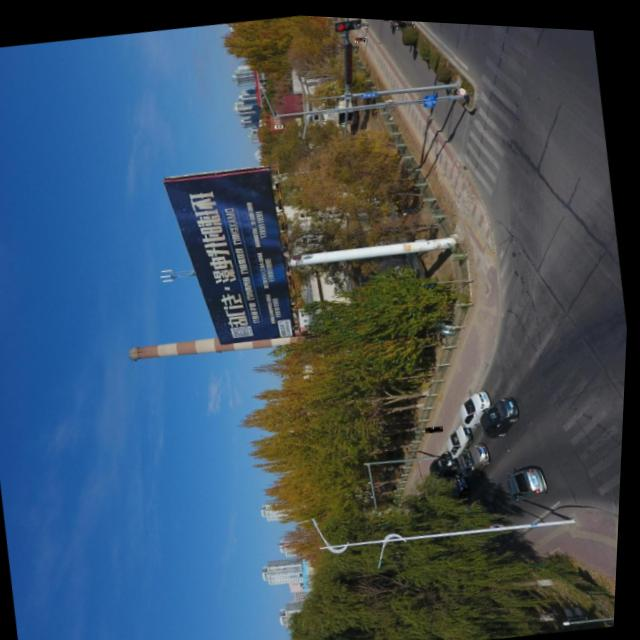Person: (389, 16, 416, 27), (428, 419, 447, 429), (354, 17, 371, 25), (352, 31, 367, 39)
